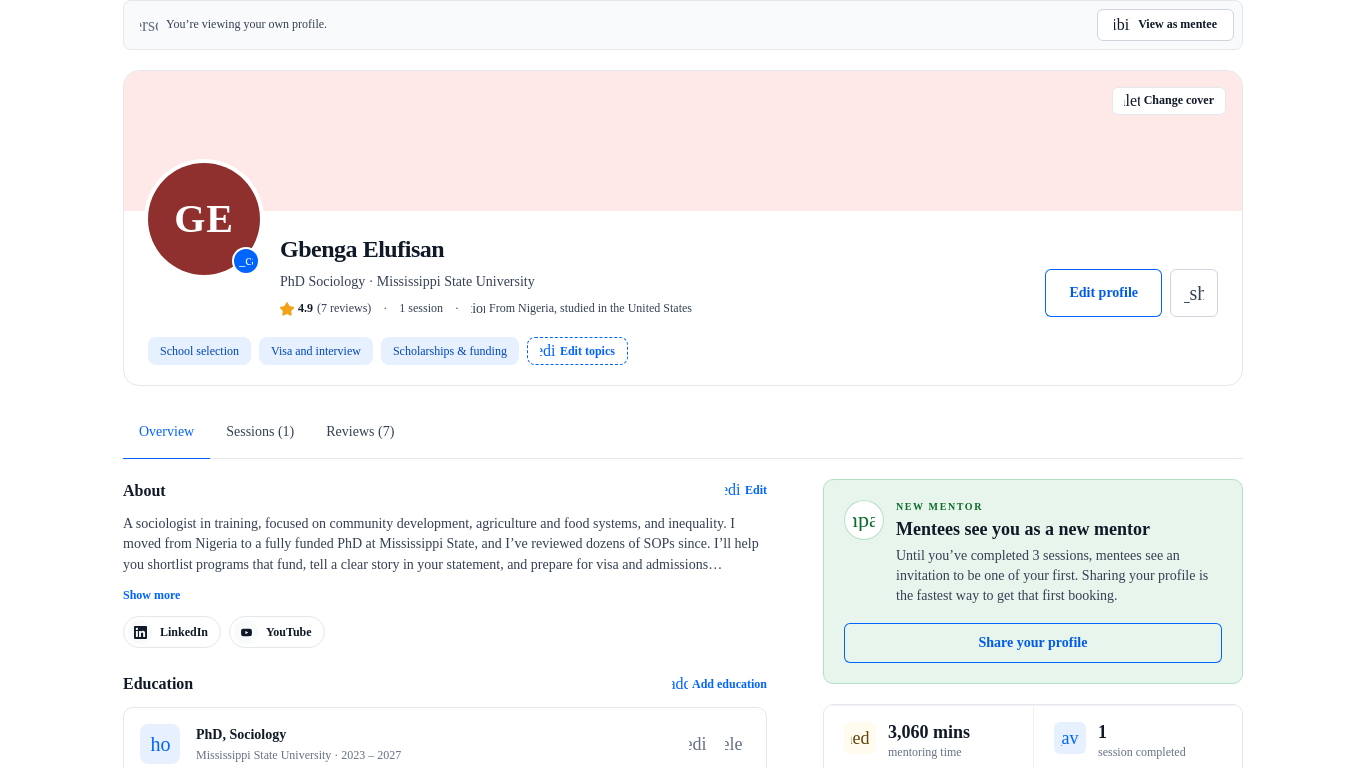
Test case: MentorProfileScreen — "View as mentee" › a new mentor: the first-mentees card’s Book is drawn but off too (Codex on PR 106)
This screenshot has width=1366, height=768.
Click the button "visibility View as mentee".
click(1166, 25)  # box [1097, 9, 1234, 41]
(page scrolled)
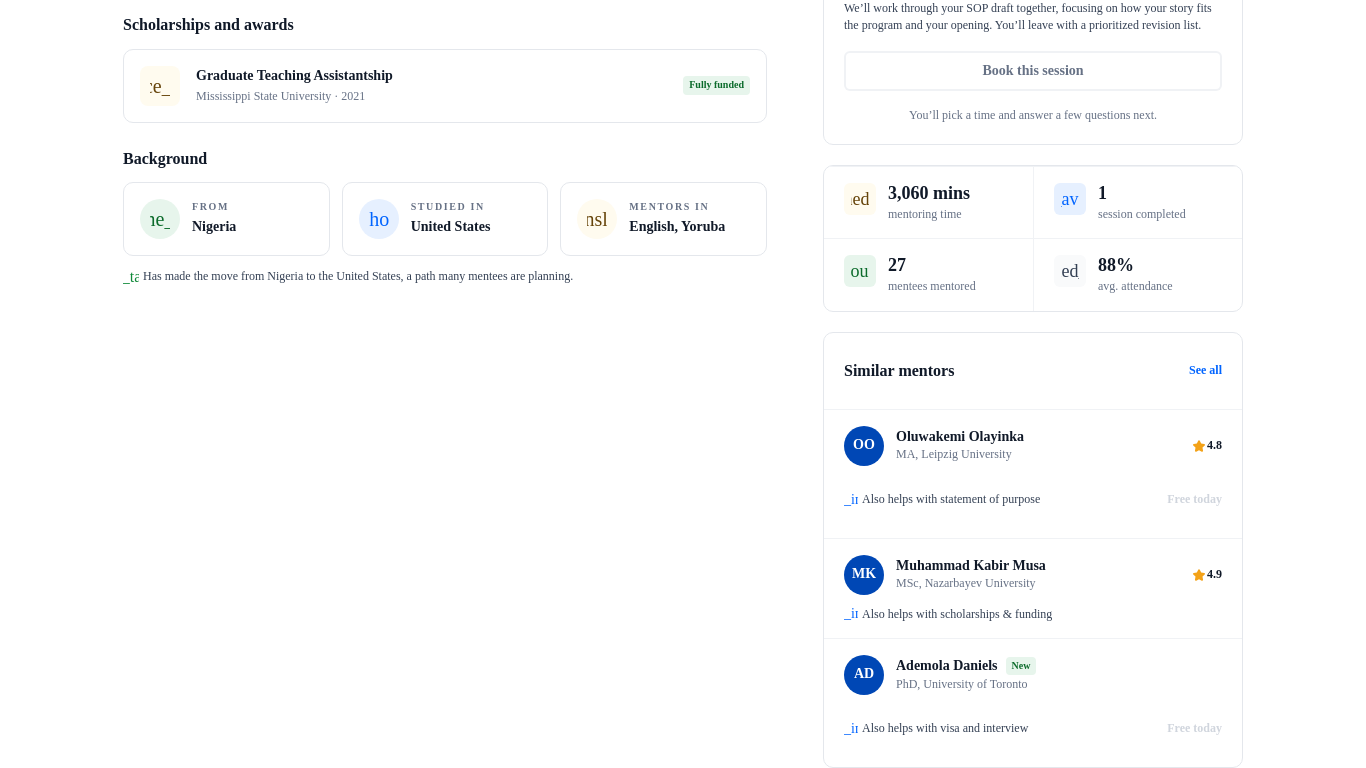
Check: the button "Book this session" is disabled, box [844, 51, 1222, 91]
Check: the button with aria-label "Book" is disabled, box [1167, 478, 1222, 522]
